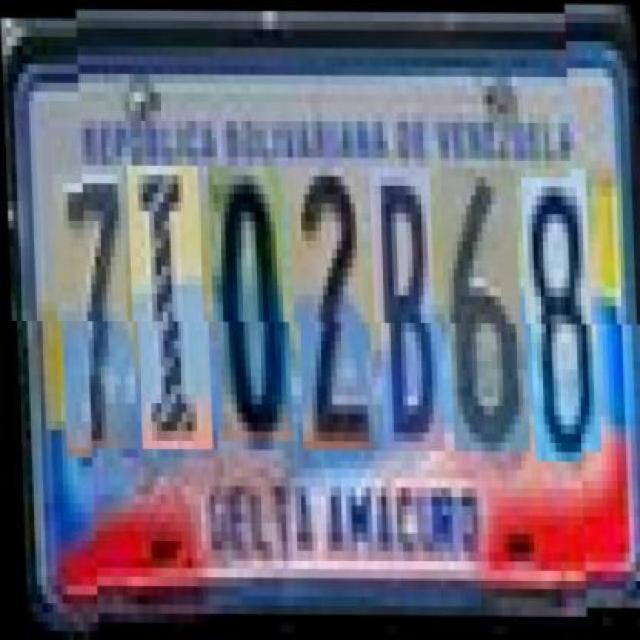2: (292, 166, 372, 451)
6: (442, 167, 527, 451)
7: (54, 165, 134, 449)
8: (524, 176, 598, 461)
b: (372, 167, 442, 451)
i: (131, 166, 211, 449)
o: (212, 165, 290, 441)
